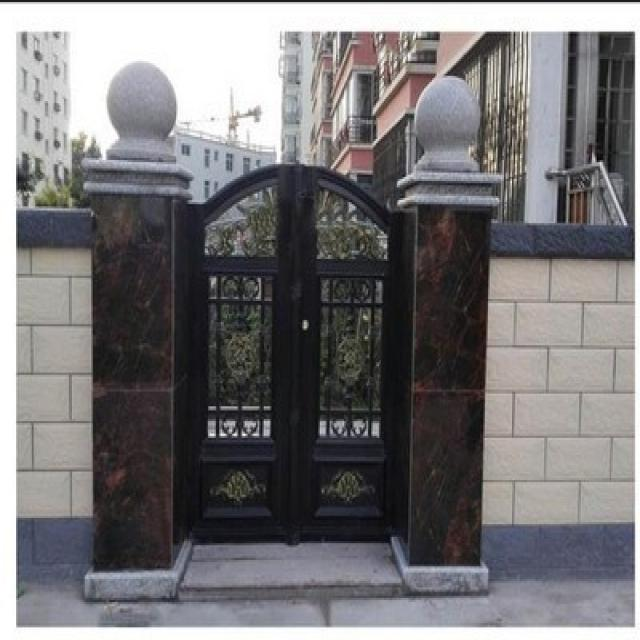spherical_roadblock: (100, 57, 174, 162), (414, 72, 484, 168)
